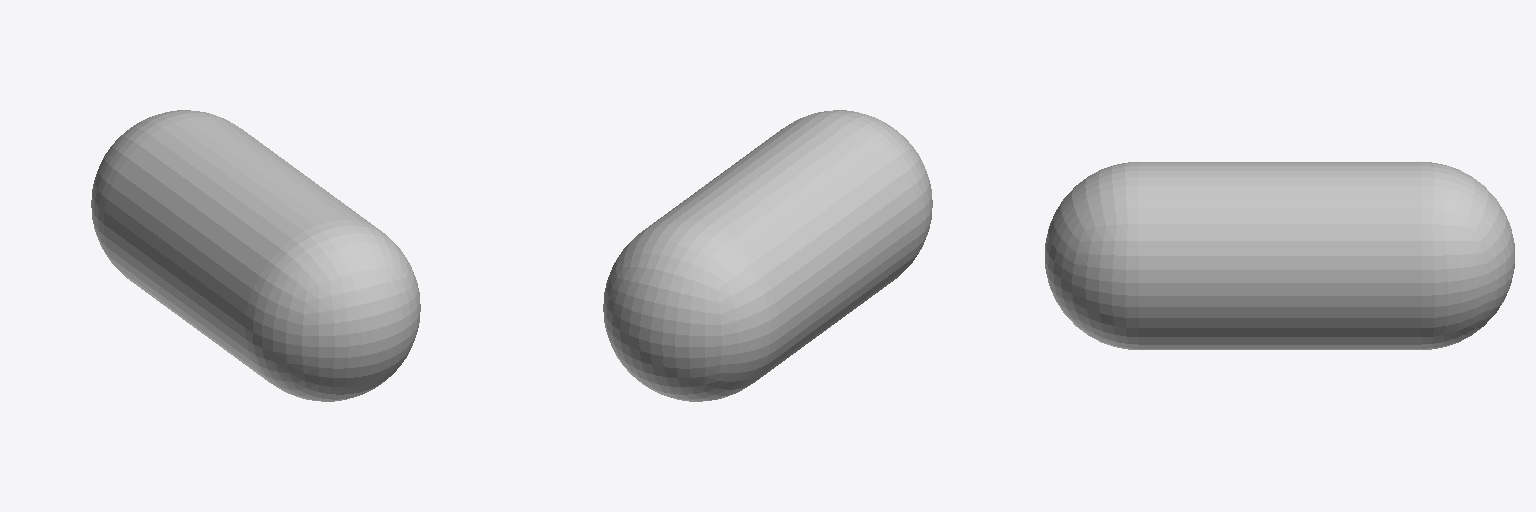
3 renders of one model, left to right at view 1: azimuth 30°, elevation 25°; view 2: azimuth 150°, elevation 25°; view 3: azimuth 270°, elevation 25°, orthographic.
Visible parts, largest first — view 1: Roundcube; view 2: Roundcube; view 3: Roundcube.
Boxes of the visible parts, box(x1,y1,x2,y2) form: Roundcube: box(91, 110, 420, 401); Roundcube: box(603, 110, 932, 401); Roundcube: box(1045, 162, 1514, 349).
Bounding box in the file's own units: 1 × 1 × 2.5.